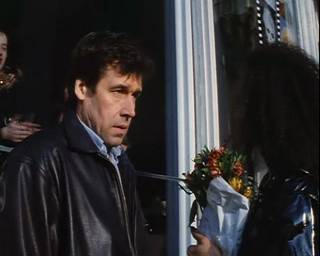face: (98, 72, 142, 146), (1, 40, 7, 70)
mcu: (1, 1, 320, 256)
person: (2, 30, 158, 256), (184, 38, 320, 256), (1, 28, 42, 144)
